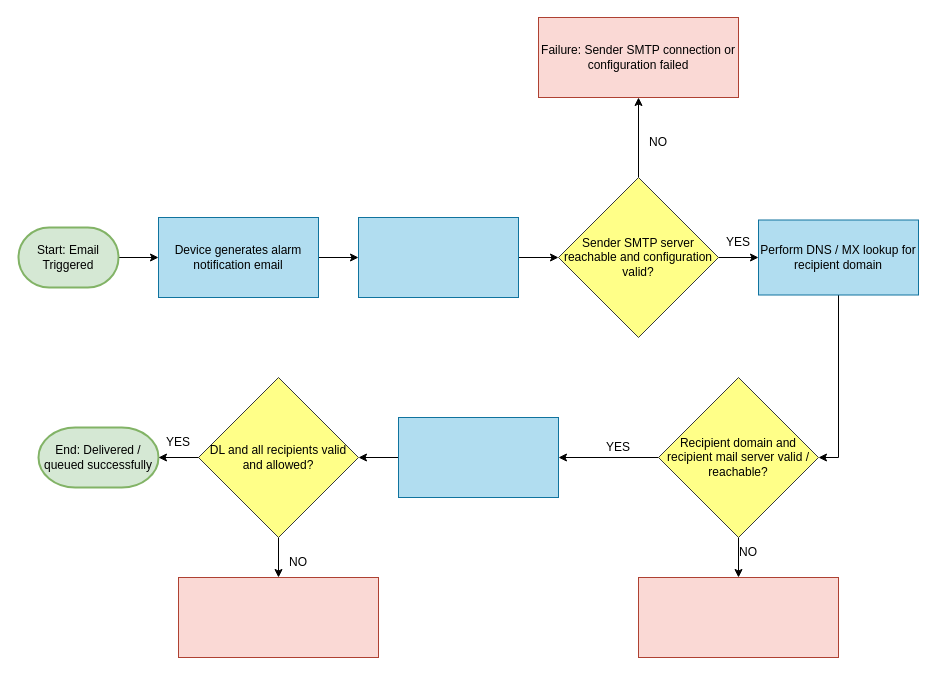
Some shapes in this 936 by 675 pixel diagram are drawn without their labels. Here are the shapes that lost their labels. From the top down, the centre of each, then its label:
(x=438, y=257): Connect to configured sender SMTP server
(x=478, y=457): Recipient mail server evaluates Alarm Receiver DL
(x=278, y=617): Failure: Distribution list or recipient policy rejected message
(x=738, y=617): Failure: Recipient domain lookup or mail server connection failed
